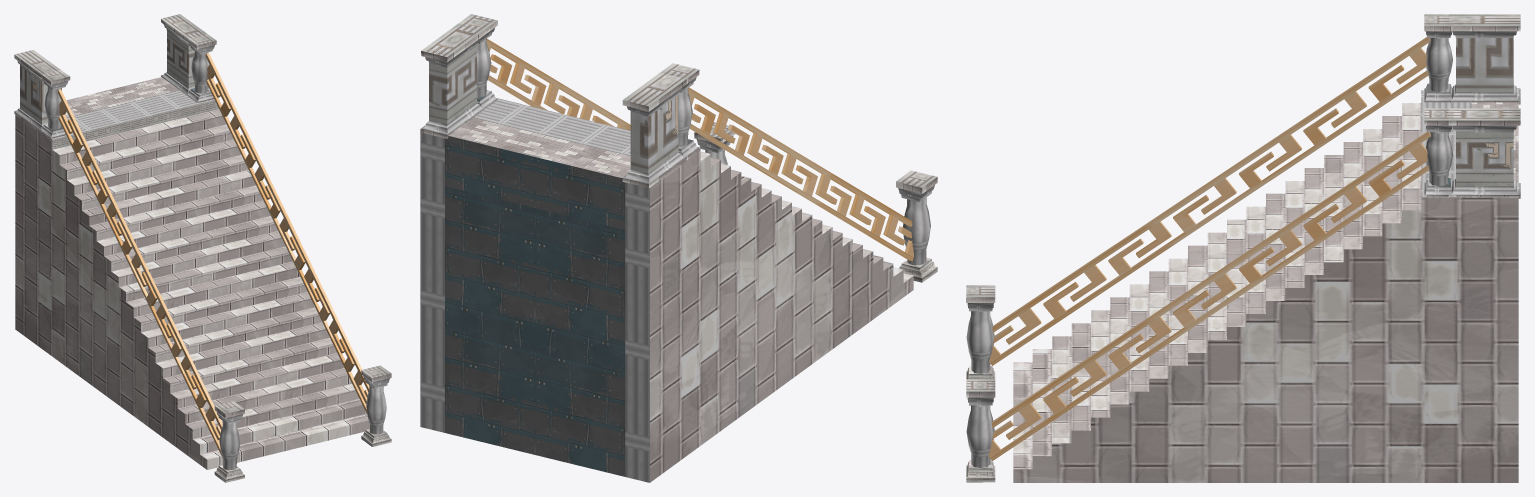
The model's file is Stairs.fbx.
3 renders of one model, left to right at view 1: azimuth 30°, elevation 25°; view 2: azimuth 150°, elevation 25°; view 3: azimuth 270°, elevation 25°, orthographic. The views are drawn at different scales.
Visible parts, largest first — view 1: Steps, Railing; view 2: Steps, Railing; view 3: Steps, Railing.
Boxes of the visible parts, x1,y1,x2,y2 form: Steps: (15,77,369,469); Railing: (14,14,391,482); Steps: (420,98,913,482); Railing: (421,14,937,282); Steps: (1013,90,1518,482); Railing: (966,14,1520,482).
Bounding box in the file's own units: 507 × 795 × 1105.
